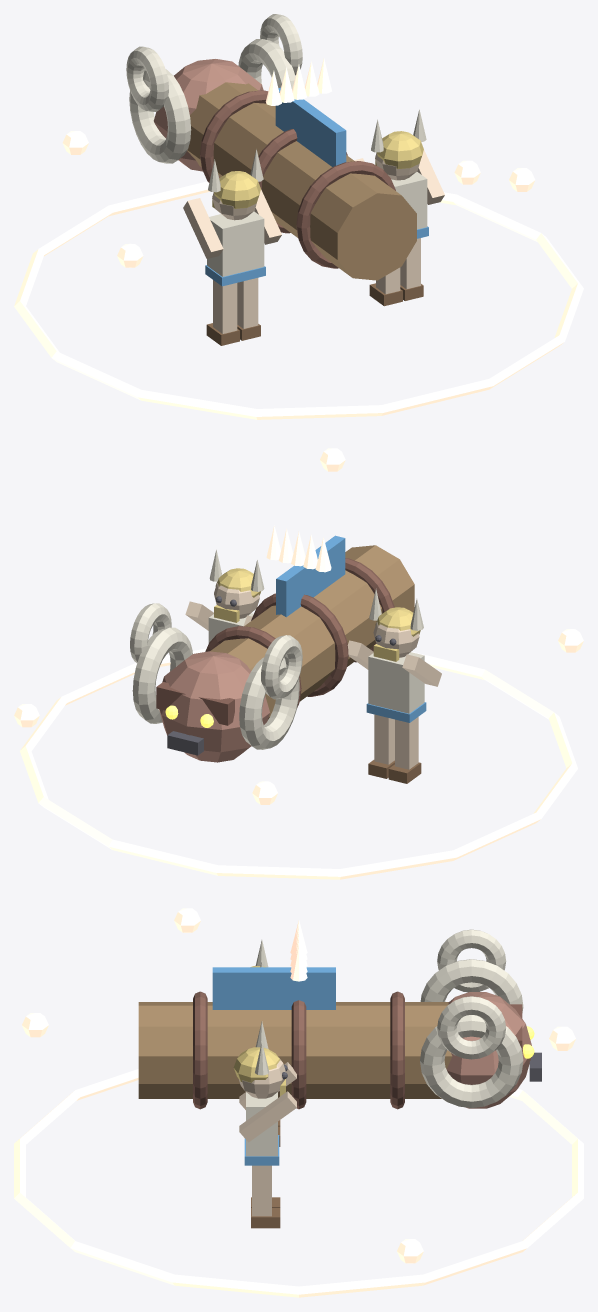
File: evolved_battle_ram.glb
The picture shows the model from 3 angles, top to bottom: view 1: azimuth 30°, elevation 25°; view 2: azimuth 150°, elevation 25°; view 3: azimuth 270°, elevation 25°; orthographic projection. The views are drawn at different scales.
Visible parts, largest first — view 1: evolved_battle_ram; view 2: evolved_battle_ram; view 3: evolved_battle_ram.
Part boxes in pixels (left/top/right/bottom): evolved_battle_ram: left=14, top=14, right=583, bottom=419; evolved_battle_ram: left=14, top=448, right=583, bottom=879; evolved_battle_ram: left=14, top=908, right=583, bottom=1297.
Size of the model in its own units: 5.21 by 2.42 by 5.08.
